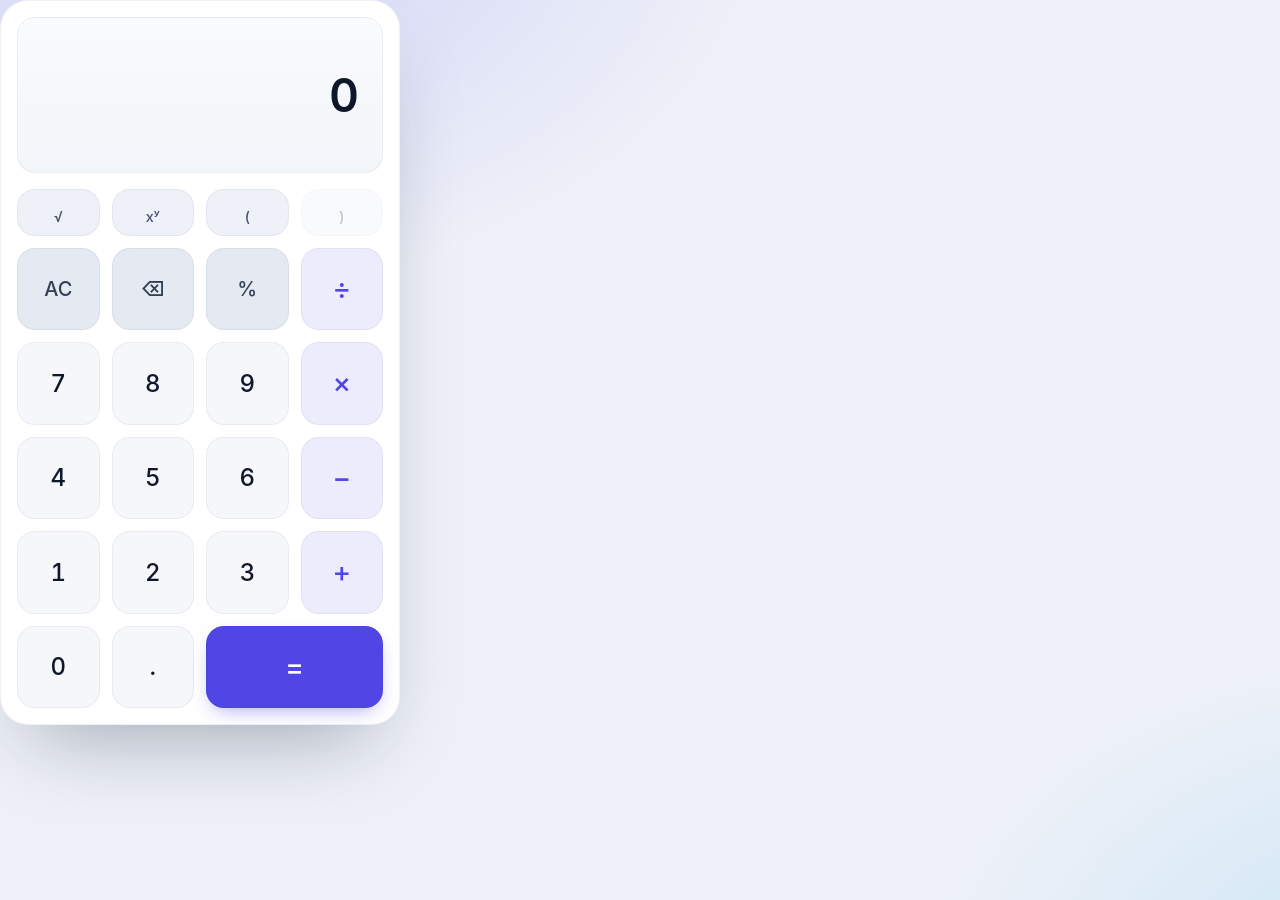
Test: Calculator › surfaces a server failure without discarding the expression
The image size is (1280, 900).
Click the button with test id "digit-1" at x=58, y=572, box [17,531,100,614]
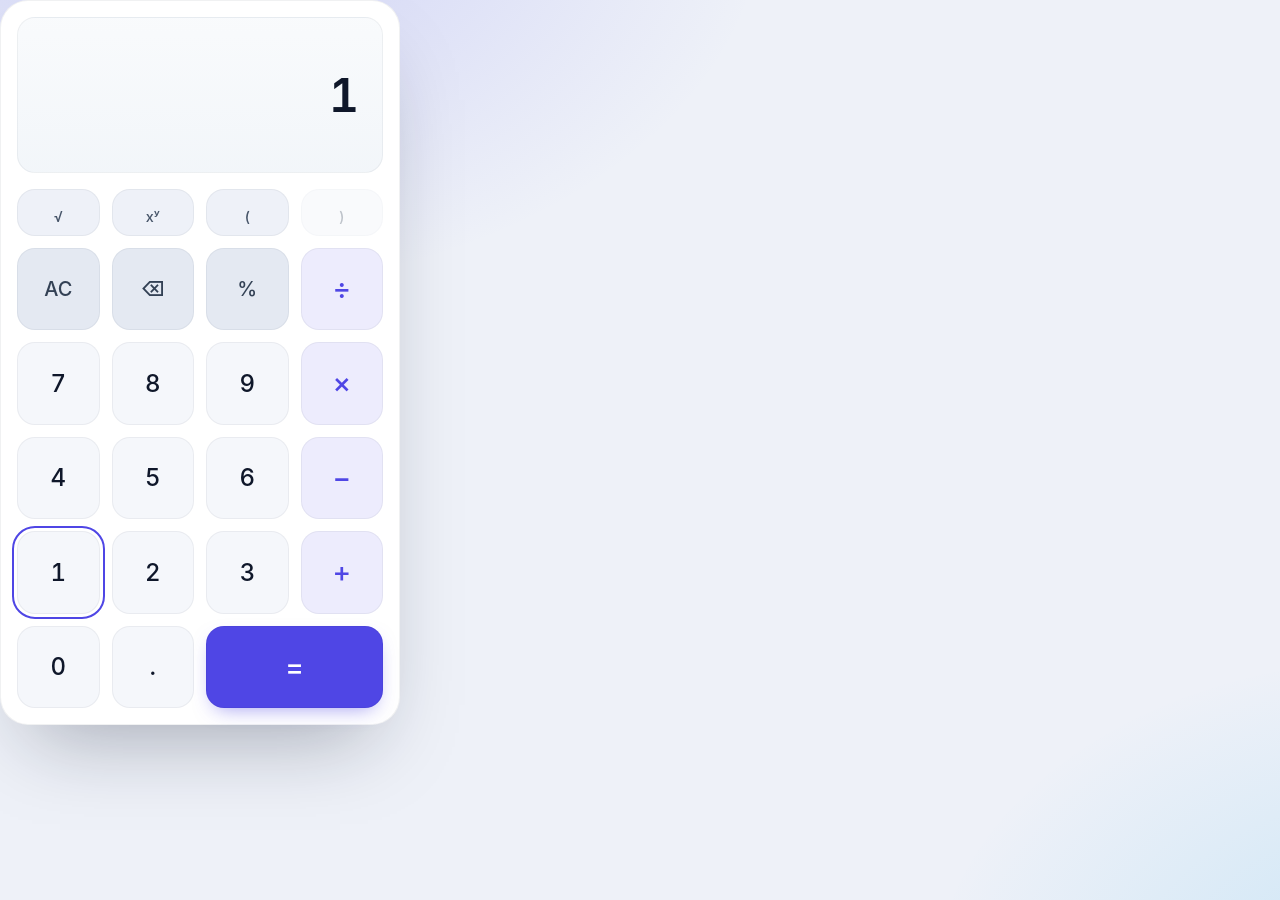
Click the button with test id "divide" at x=342, y=289, box [300,248,383,330]
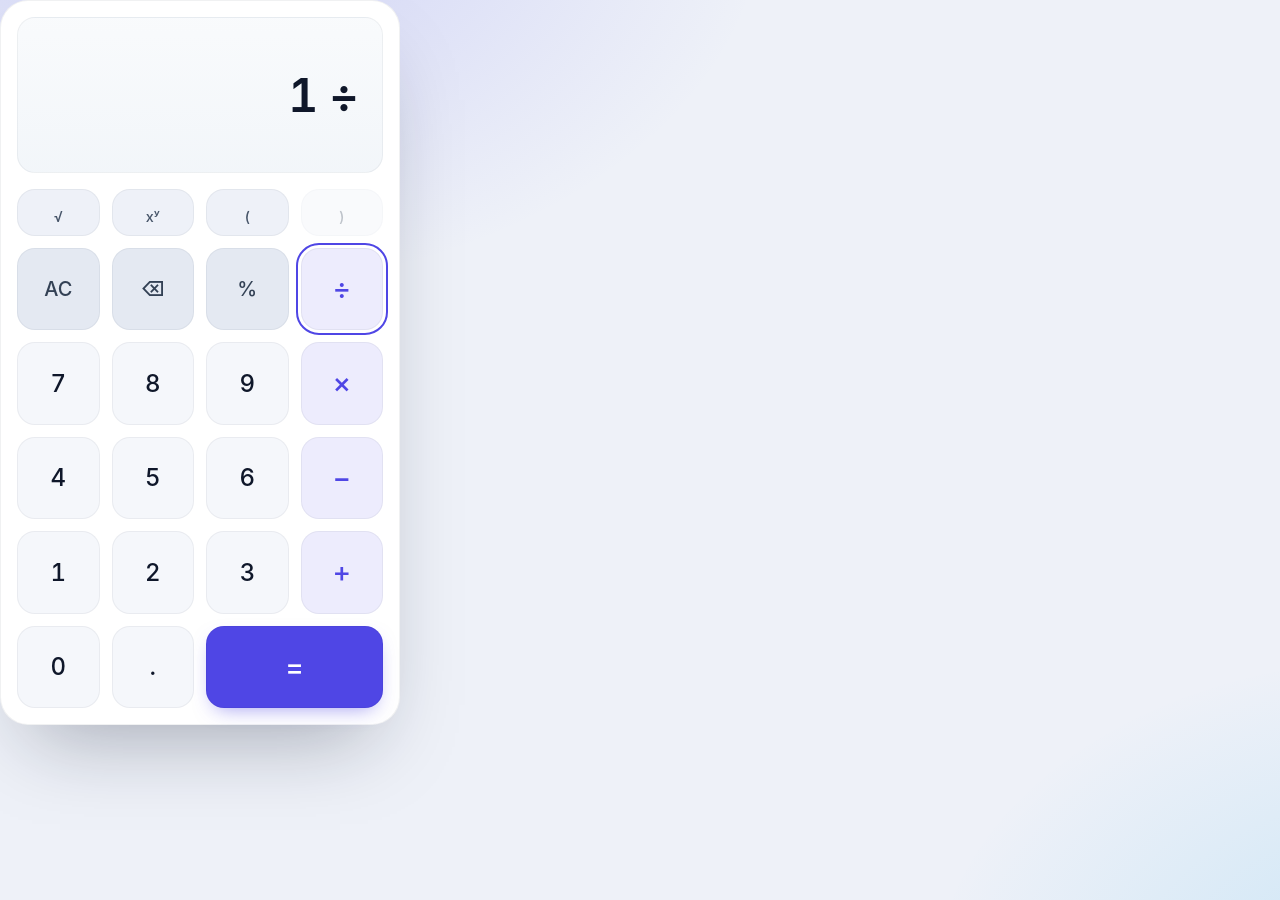
Click the button with test id "digit-0" at x=58, y=667, box [17,626,100,708]
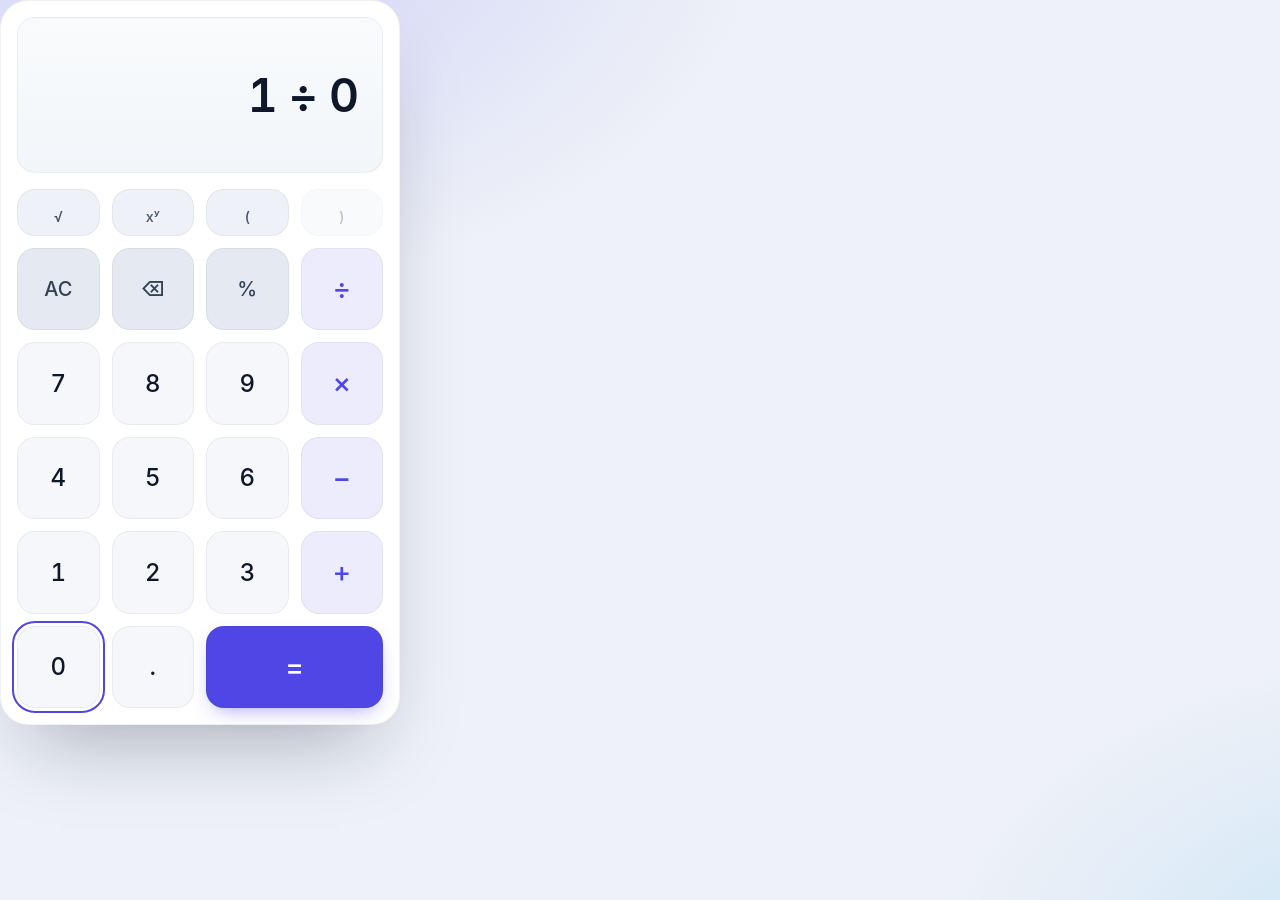
Click the button with test id "equals" at x=294, y=667, box [206,626,383,708]
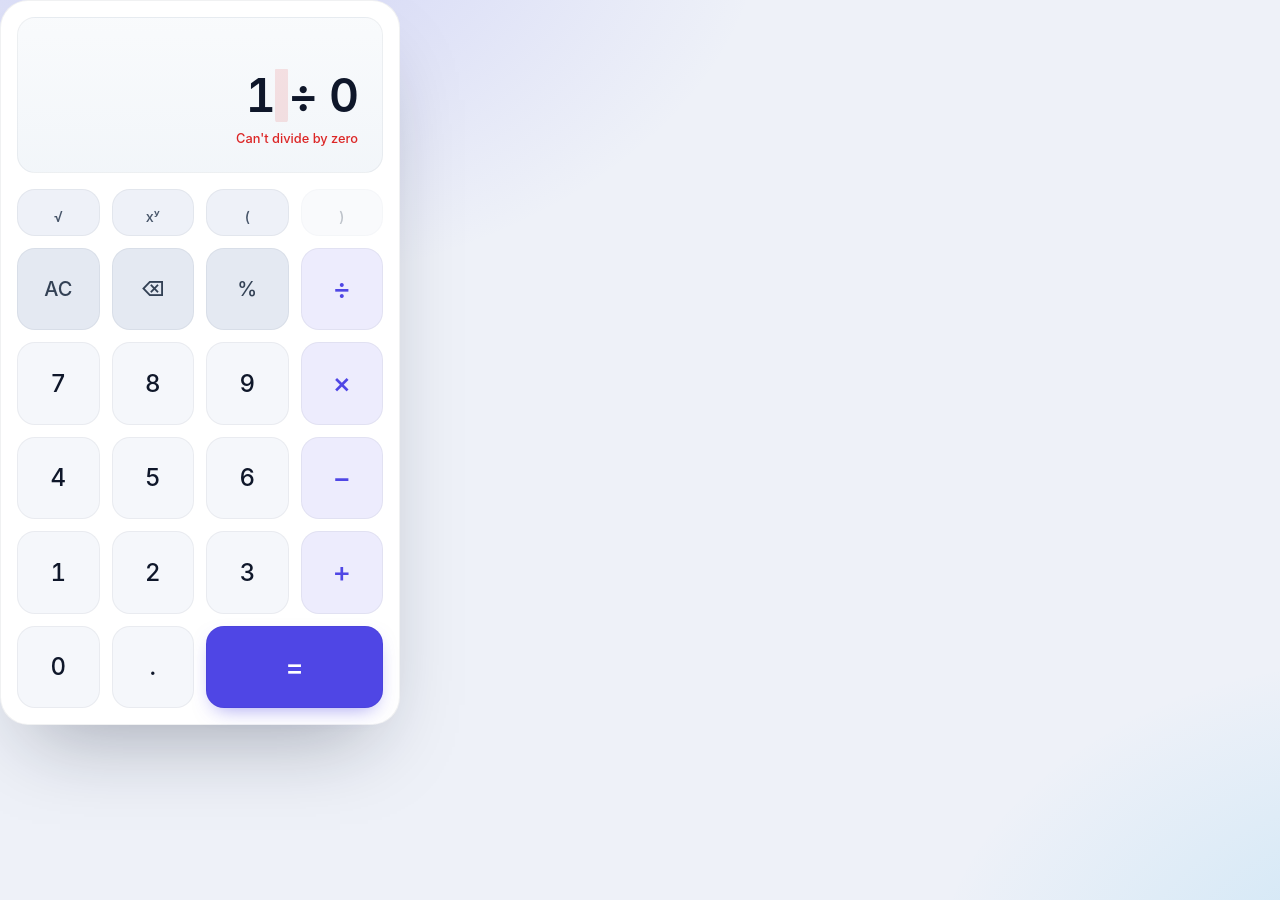
Result: the element with test id "display" reads "1 ÷ 0" at [246,69,358,122]
Result: the message reads "Can't divide by zero" at [236,131,358,146]
